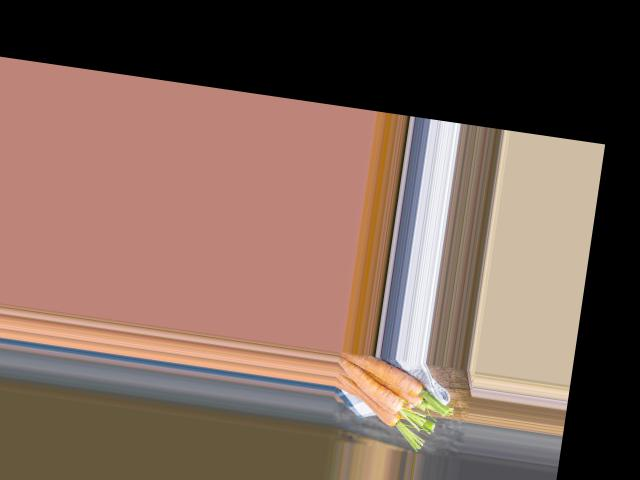carrot: (335, 351, 437, 398)
